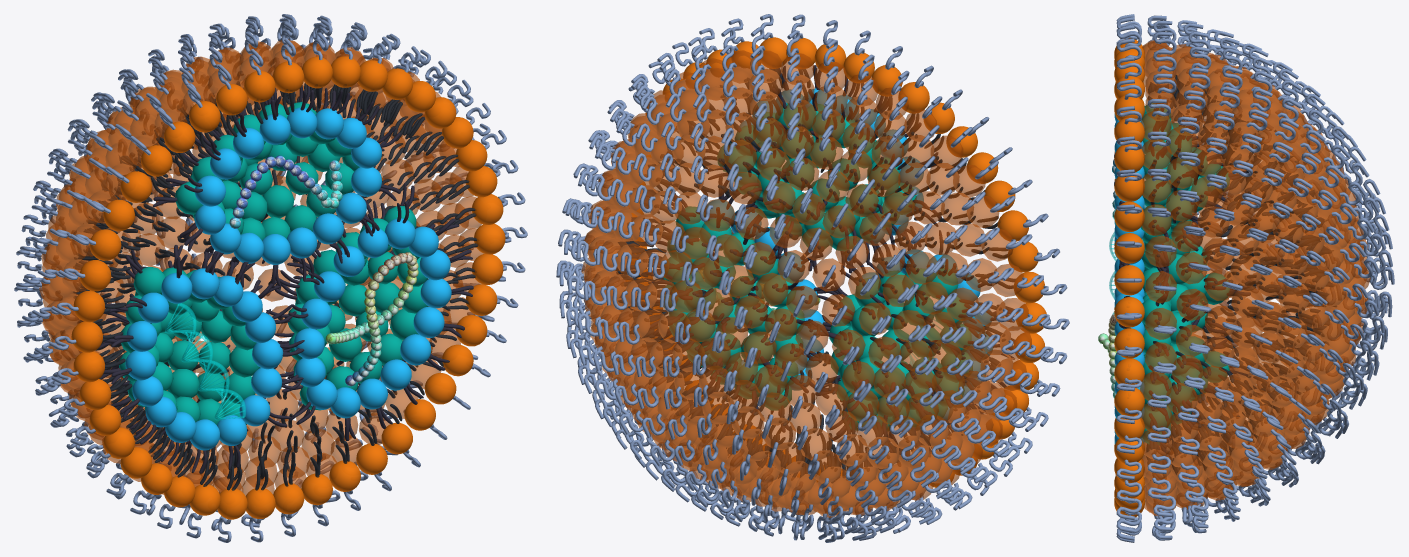
Rendered from micela-mobile.glb.
The picture shows the model from 3 angles, left to right: view 1: azimuth 30°, elevation 25°; view 2: azimuth 150°, elevation 25°; view 3: azimuth 270°, elevation 25°; orthographic projection. The views are drawn at different scales.
Visible parts, largest first — view 1: LIPOSOME-boules-fond_LIPOSOME-BOULES-FOND_0, VEHICULE-boules-claires_VEHICULE-BOULE-claires_0, LIPOSOME-boules-claires_COULEUR-01 claire_0, VEHICULE-boules-fond_VEHICULE-BOULE-fond_0, LIPOSOME-serpentins_LIPOSOME-Serpentins_0, LIPOSOME-jambes_1_LIPOSOME-jambes_surf_0, VEHICULE-jambes_1_VEHICULE-jambes_surf_0, PEPTIDE-B:PEPTIDE-B-UV_PEPTIDE-B-UV_0, PEPTIDE-A:PEPTIDE-A-UV_PEPTIDE-A-UV_0, helice_adn:DNA-UV_TEXTURE-UV_0; view 2: LIPOSOME-boules-fond_LIPOSOME-BOULES-FOND_0, LIPOSOME-serpentins_LIPOSOME-Serpentins_0, VEHICULE-boules-fond_VEHICULE-BOULE-fond_0, LIPOSOME-jambes_1_LIPOSOME-jambes_surf_0, LIPOSOME-boules-claires_COULEUR-01 claire_0, VEHICULE-jambes_1_VEHICULE-jambes_surf_0, VEHICULE-boules-claires_VEHICULE-BOULE-claires_0; view 3: LIPOSOME-boules-fond_LIPOSOME-BOULES-FOND_0, LIPOSOME-serpentins_LIPOSOME-Serpentins_0, LIPOSOME-jambes_1_LIPOSOME-jambes_surf_0, VEHICULE-boules-fond_VEHICULE-BOULE-fond_0, LIPOSOME-boules-claires_COULEUR-01 claire_0, VEHICULE-jambes_1_VEHICULE-jambes_surf_0, VEHICULE-boules-claires_VEHICULE-BOULE-claires_0, PEPTIDE-B:PEPTIDE-B-UV_PEPTIDE-B-UV_0.
Boxes of the visible parts, box(x1,y1,x2,y2) form: LIPOSOME-boules-fond_LIPOSOME-BOULES-FOND_0: box(39, 39, 483, 495); VEHICULE-boules-claires_VEHICULE-BOULE-claires_0: box(125, 107, 451, 450); LIPOSOME-boules-claires_COULEUR-01 claire_0: box(71, 56, 505, 519); VEHICULE-boules-fond_VEHICULE-BOULE-fond_0: box(119, 101, 428, 424); LIPOSOME-serpentins_LIPOSOME-Serpentins_0: box(14, 14, 527, 542); LIPOSOME-jambes_1_LIPOSOME-jambes_surf_0: box(73, 81, 477, 490); VEHICULE-jambes_1_VEHICULE-jambes_surf_0: box(98, 85, 473, 473); PEPTIDE-B:PEPTIDE-B-UV_PEPTIDE-B-UV_0: box(325, 252, 418, 386); PEPTIDE-A:PEPTIDE-A-UV_PEPTIDE-A-UV_0: box(229, 155, 343, 228); helice_adn:DNA-UV_TEXTURE-UV_0: box(165, 303, 245, 420); LIPOSOME-boules-fond_LIPOSOME-BOULES-FOND_0: box(581, 50, 1031, 517); LIPOSOME-serpentins_LIPOSOME-Serpentins_0: box(556, 14, 1069, 542); VEHICULE-boules-fond_VEHICULE-BOULE-fond_0: box(663, 103, 972, 430); LIPOSOME-jambes_1_LIPOSOME-jambes_surf_0: box(615, 68, 1015, 483); LIPOSOME-boules-claires_COULEUR-01 claire_0: box(626, 37, 1046, 487); VEHICULE-jambes_1_VEHICULE-jambes_surf_0: box(642, 65, 1014, 452); VEHICULE-boules-claires_VEHICULE-BOULE-claires_0: box(699, 88, 992, 429); LIPOSOME-boules-fond_LIPOSOME-BOULES-FOND_0: box(1140, 40, 1370, 516); LIPOSOME-serpentins_LIPOSOME-Serpentins_0: box(1116, 14, 1394, 542); LIPOSOME-jambes_1_LIPOSOME-jambes_surf_0: box(1124, 75, 1336, 474); VEHICULE-boules-fond_VEHICULE-BOULE-fond_0: box(1141, 103, 1229, 445); LIPOSOME-boules-claires_COULEUR-01 claire_0: box(1114, 38, 1144, 517); VEHICULE-jambes_1_VEHICULE-jambes_surf_0: box(1119, 84, 1250, 464); VEHICULE-boules-claires_VEHICULE-BOULE-claires_0: box(1114, 114, 1144, 444); PEPTIDE-B:PEPTIDE-B-UV_PEPTIDE-B-UV_0: box(1098, 314, 1143, 398).
Bounding box in the file's own units: 0.7063 × 0.7063 × 0.3961.
10 materials, 10 textured.
